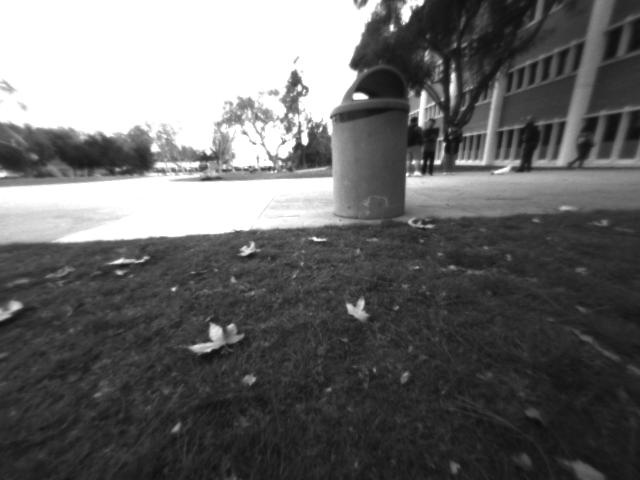trashcan: (321, 58, 422, 230)
